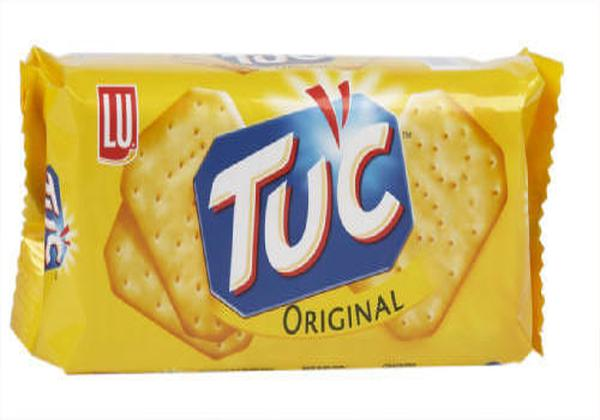crackers tuc: (31, 52, 557, 371)
